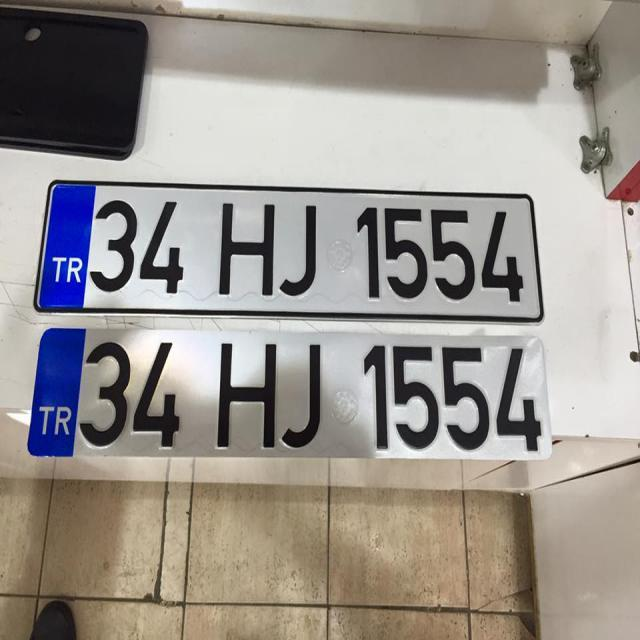plate: (39, 183, 543, 320), (34, 333, 550, 460)
